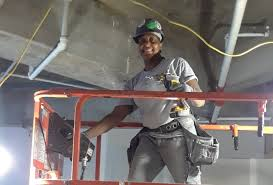hard hat: (130, 16, 166, 41)
